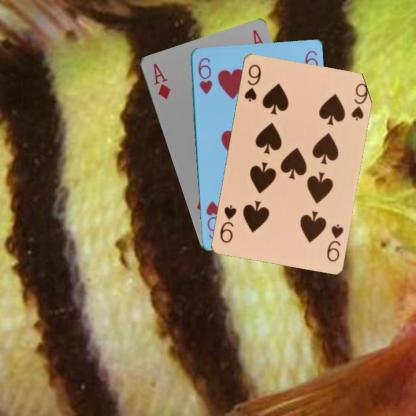6h: (195, 54, 213, 96)
9s: (240, 61, 262, 103), (323, 221, 345, 263)
Ad: (150, 61, 172, 100)
